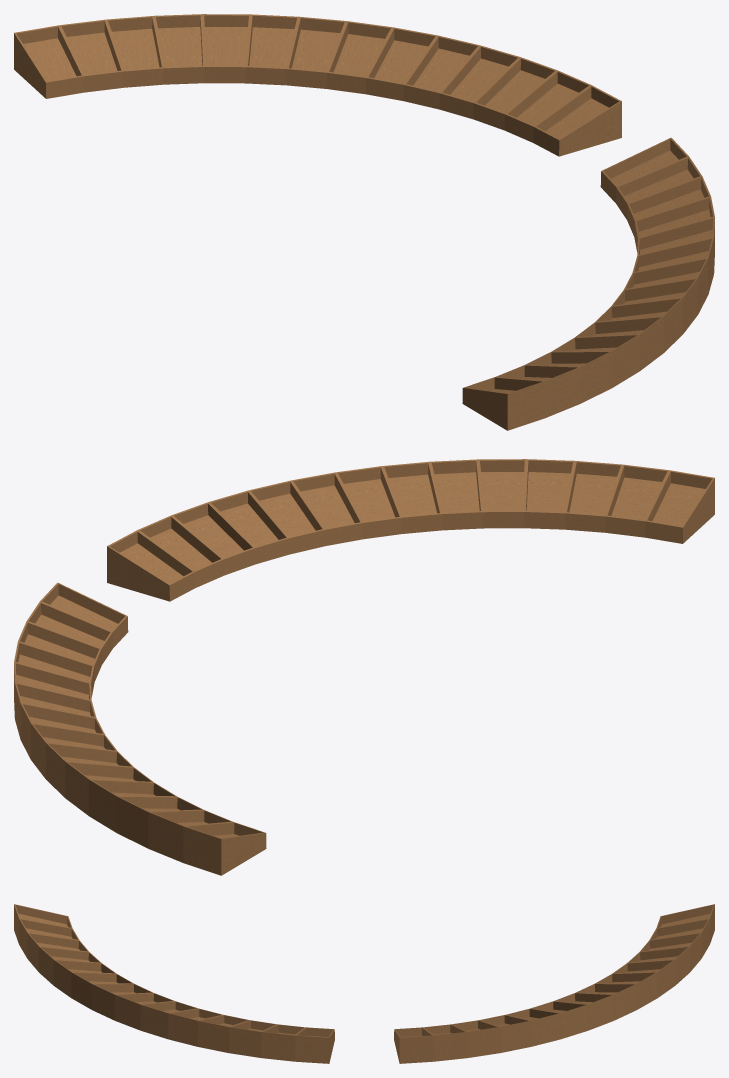
File: mesh_com_bs_bowls.glb
3 renders of one model, top to bottom at view 1: azimuth 30°, elevation 25°; view 2: azimuth 150°, elevation 25°; view 3: azimuth 270°, elevation 25°, orthographic. The views are drawn at different scales.
Parts seen in each view (by area): view 1: mesh_com_bs_bowls; view 2: mesh_com_bs_bowls; view 3: mesh_com_bs_bowls.
Part boxes in pixels (x1,y1,x2,y2): mesh_com_bs_bowls: (14,14,714,430); mesh_com_bs_bowls: (14,459,714,875); mesh_com_bs_bowls: (14,904,714,1063).
Bounding box in the file's own units: 23.17 × 2.07 × 50.47.
1 material, 1 textured.
